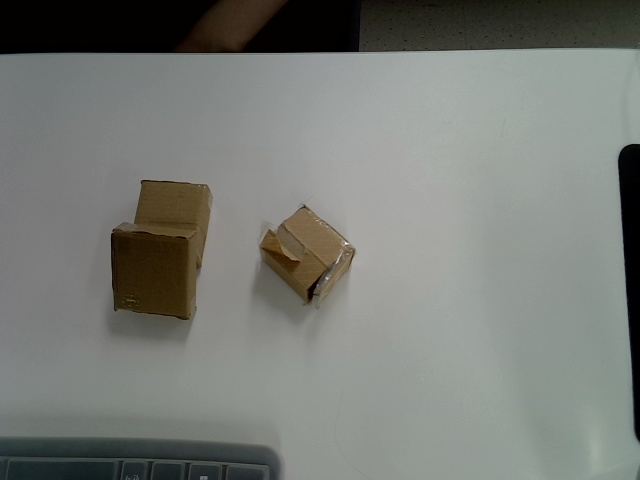defect: (258, 204, 356, 309)
normal: (111, 223, 196, 320), (134, 179, 214, 270)
